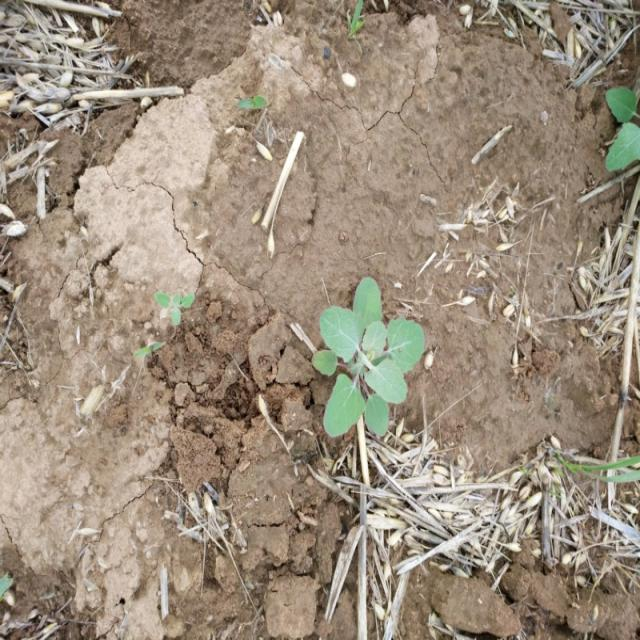goosefoots: (286, 272, 434, 444)
